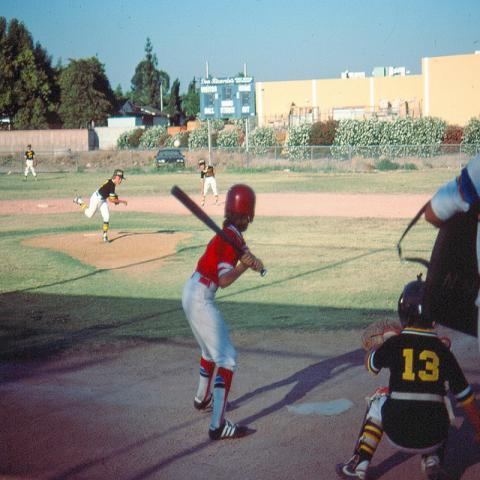car: (154, 148, 185, 172)
